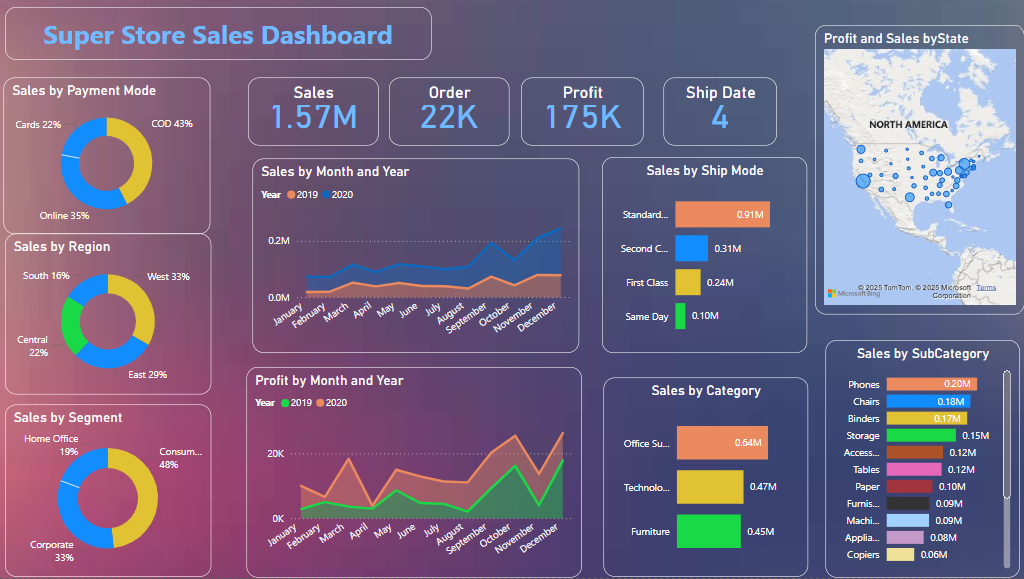

The page's visual inventory and layout, read from the dashboard file:
{"tool":"powerbi","page":{"name":"Page 1","canvas":[1280,720],"ordinal":0},"visuals":[{"type":"clusteredBarChart","title":"Sales by Category","fields":{"Category":["SuperStore_Sales_Dataset (2).Category"],"Y":["Sum(SuperStore_Sales_Dataset (2).Sales)"]},"box":[757.1,473,252.4,246],"z":0},{"type":"clusteredBarChart","title":"Sales by SubCategory","fields":{"Category":["SuperStore_Sales_Dataset (2).Sub-Category","SuperStore_Sales_Dataset (2).Category"],"Y":["Sum(SuperStore_Sales_Dataset (2).Sales)"]},"box":[1031.7,425.4,239.7,293.7],"z":1000},{"type":"clusteredBarChart","title":"Sales by Ship Mode","fields":{"Category":["SuperStore_Sales_Dataset (2).Ship Mode"],"Y":["Sum(SuperStore_Sales_Dataset (2).Sales)"]},"box":[756.5,200,253.2,241.9],"z":2000},{"type":"stackedAreaChart","title":"Profit by Month and Year","fields":{"Category":["SuperStore_Sales_Dataset (2).Order Date.Variation.Date Hierarchy.Month","SuperStore_Sales_Dataset (2).Order Date.Variation.Date Hierarchy.Day"],"Series":["SuperStore_Sales_Dataset (2).Order Date.Variation.Date Hierarchy.Year"],"Y":["Sum(SuperStore_Sales_Dataset (2).Profit)"]},"box":[317.5,458.7,414.3,260.3],"z":3000},{"type":"stackedAreaChart","title":"Sales by Month and Year","fields":{"Y":["Sum(SuperStore_Sales_Dataset (2).Sales)"],"Category":["SuperStore_Sales_Dataset (2).Order Date.Variation.Date Hierarchy.Month","SuperStore_Sales_Dataset (2).Order Date.Variation.Date Hierarchy.Day"],"Series":["SuperStore_Sales_Dataset (2).Order Date.Variation.Date Hierarchy.Year"]},"box":[323.8,201.6,403.2,239.7],"z":4000},{"type":"map","title":"Profit and Sales byState","fields":{"Category":["SuperStore_Sales_Dataset (2).State"],"Size":["Sum(SuperStore_Sales_Dataset (2).Sales)"]},"box":[1019,36.5,260.3,357.1],"z":5000},{"type":"textbox","box":[19,14.3,527,65.1],"z":6000},{"type":"card","title":"Sales","fields":{"Values":["Sum(SuperStore_Sales_Dataset (2).Sales)"]},"box":[317.7,101.6,161.3,83.9],"z":7000},{"type":"card","title":"Order","fields":{"Values":["Sum(SuperStore_Sales_Dataset (2).Quantity)"]},"box":[491.9,101.6,148.4,83.9],"z":8000},{"type":"card","title":"Profit","fields":{"Values":["Sum(SuperStore_Sales_Dataset (2).Profit)"]},"box":[656.5,101.6,151.6,83.9],"z":9000},{"type":"card","title":"Ship Date","fields":{"Values":["Avg(SuperStore_Sales_Dataset (2).AvgDelivery)"]},"box":[830.6,101.6,140.3,83.9],"z":10000},{"type":"donutChart","title":"Sales by Segment","fields":{"Category":["SuperStore_Sales_Dataset (2).Segment"],"Y":["Sum(SuperStore_Sales_Dataset (2).Sales)"]},"box":[19.4,506.5,254.8,212.9],"z":11000},{"type":"donutChart","title":" Sales by Region","fields":{"Category":["SuperStore_Sales_Dataset (2).Region"],"Y":["Sum(SuperStore_Sales_Dataset (2).Sales)"]},"box":[19.4,295.2,254.8,198.4],"z":12000},{"type":"donutChart","title":" Sales by Payment Mode","fields":{"Category":["SuperStore_Sales_Dataset (2).Payment Mode"],"Y":["Sum(SuperStore_Sales_Dataset (2).Sales)"]},"box":[17.5,101.6,255.6,193.7],"z":13000}]}

Visuals, with their boxes in screenshot pixels (x1, y1, x2, y2), scaled from the page's 1280x720 canvas onto the 1024x579 screenshot:
"Sales by Category" clusteredBarChart: (606, 380, 808, 578)
"Sales by SubCategory" clusteredBarChart: (825, 342, 1017, 578)
"Sales by Ship Mode" clusteredBarChart: (605, 161, 808, 355)
"Profit by Month and Year" stackedAreaChart: (254, 369, 585, 578)
"Sales by Month and Year" stackedAreaChart: (259, 162, 582, 355)
"Profit and Sales byState" map: (815, 29, 1023, 317)
textbox: (15, 11, 437, 64)
"Sales" card: (254, 82, 383, 149)
"Order" card: (394, 82, 512, 149)
"Profit" card: (525, 82, 646, 149)
"Ship Date" card: (664, 82, 777, 149)
"Sales by Segment" donutChart: (16, 407, 219, 578)
" Sales by Region" donutChart: (16, 237, 219, 397)
" Sales by Payment Mode" donutChart: (14, 82, 218, 237)
